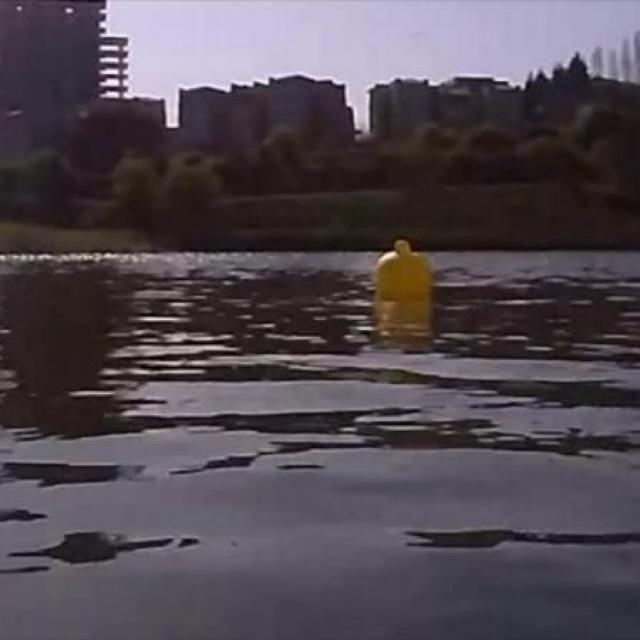buoy: (372, 239, 430, 299)
